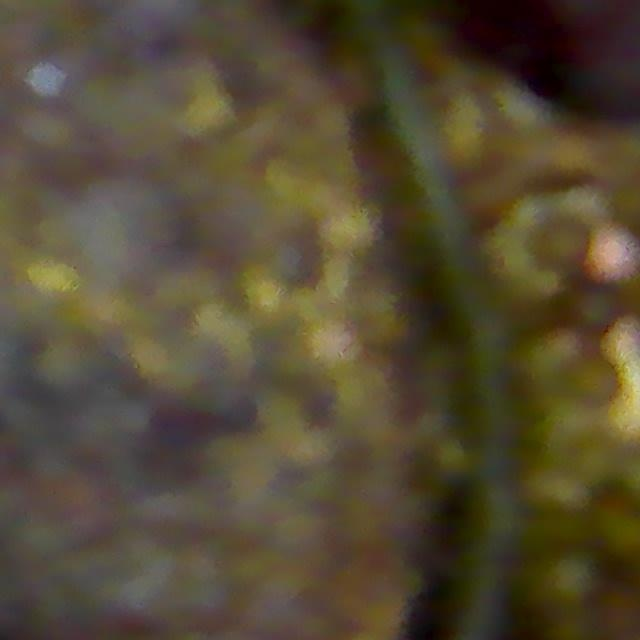SeaGrape: (518, 207, 595, 284), (548, 351, 628, 414), (538, 550, 603, 611), (603, 506, 640, 563)
